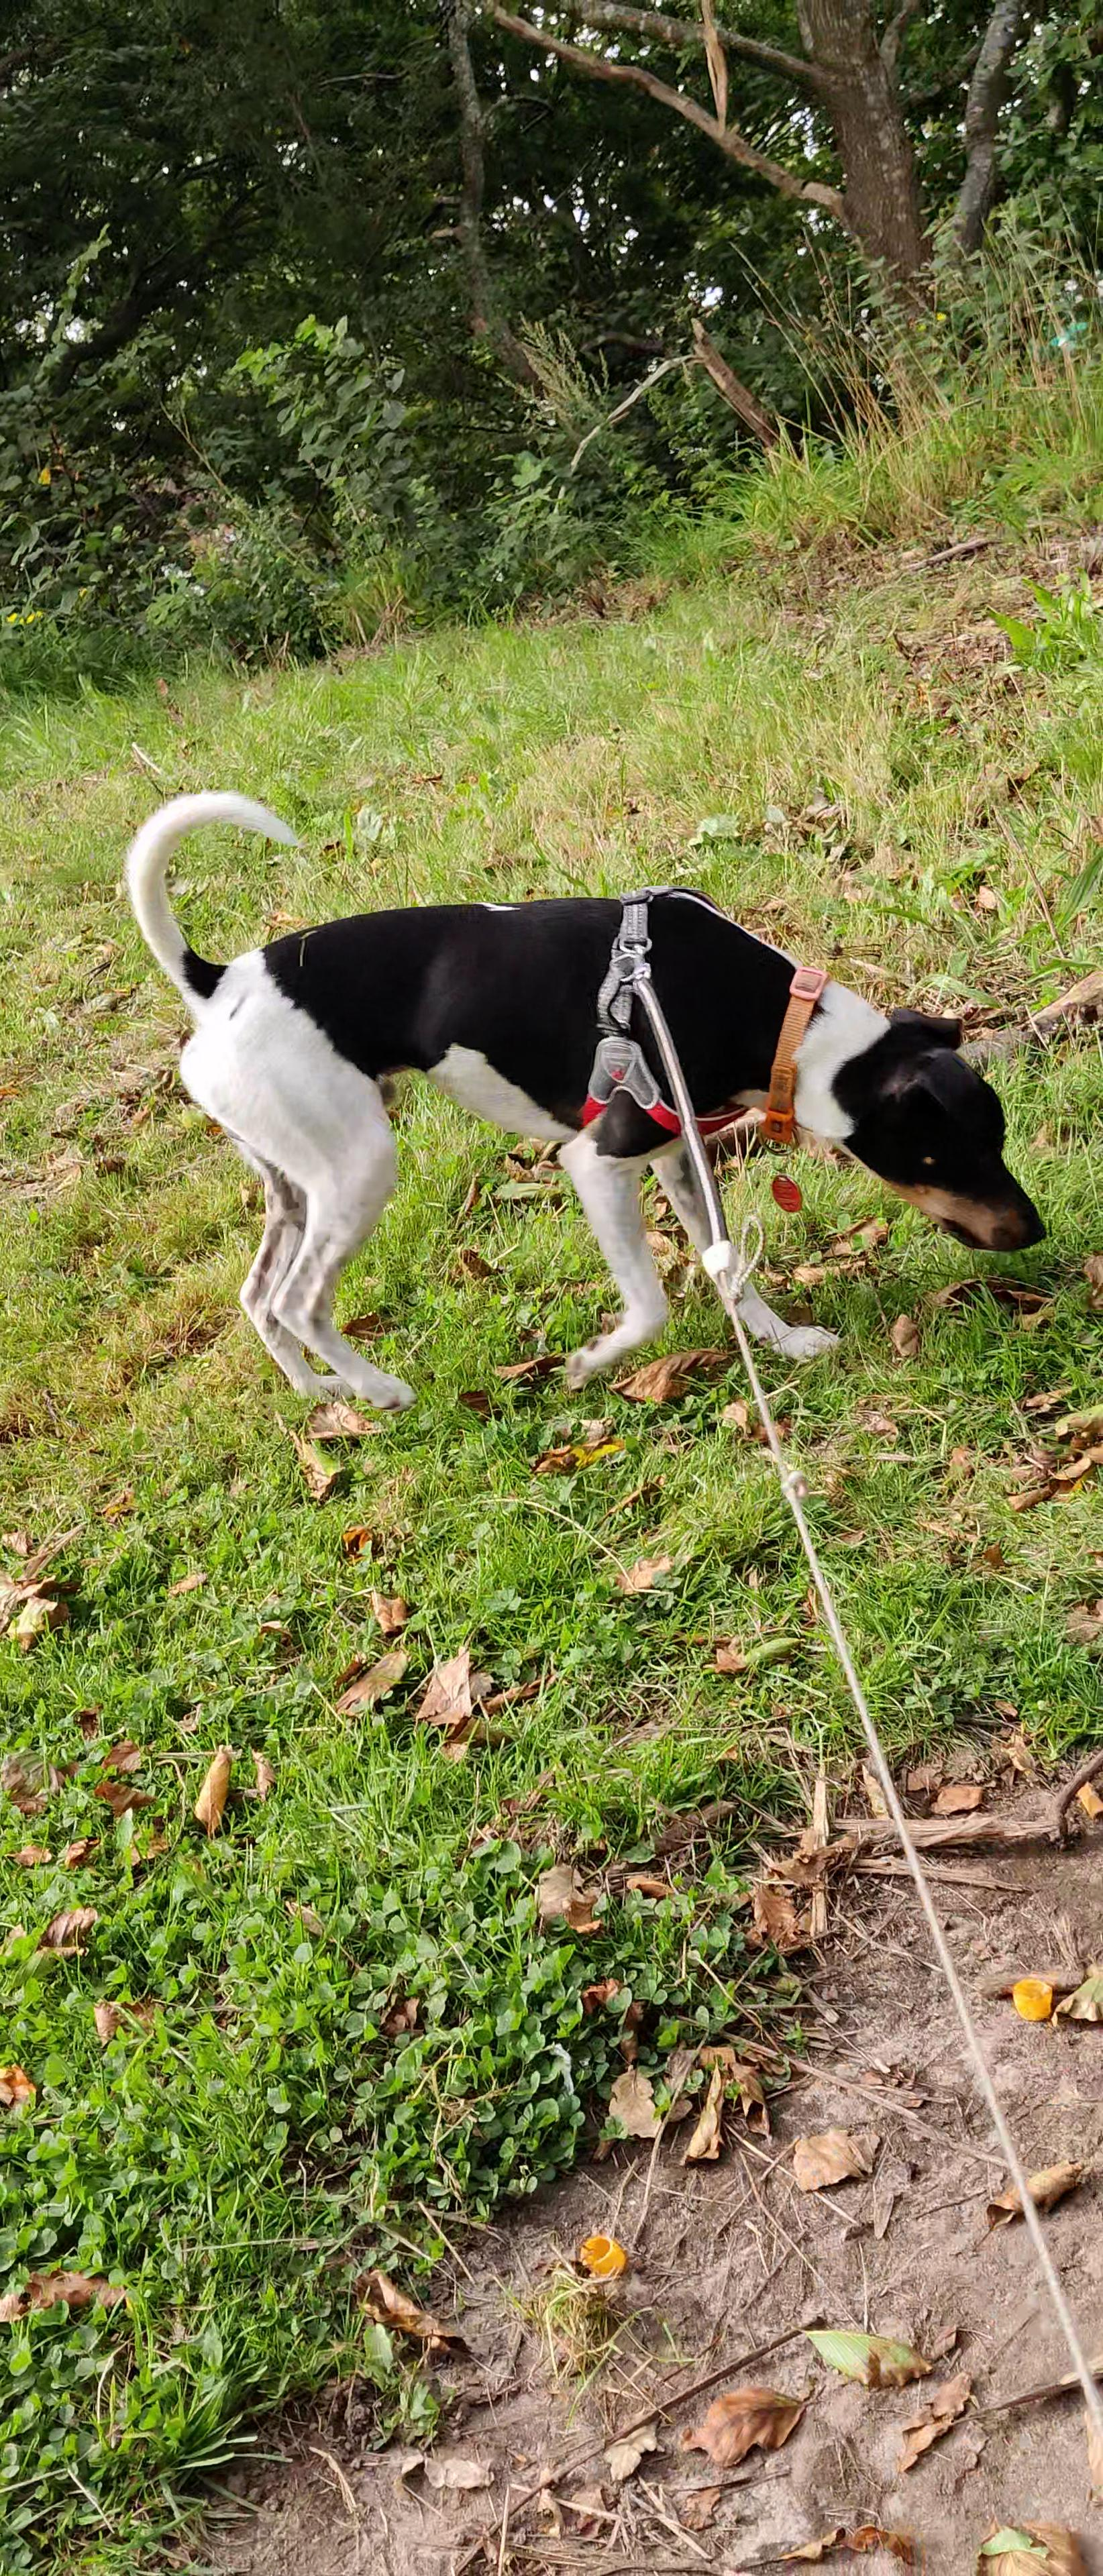Dog: (102, 756, 1057, 1416)
